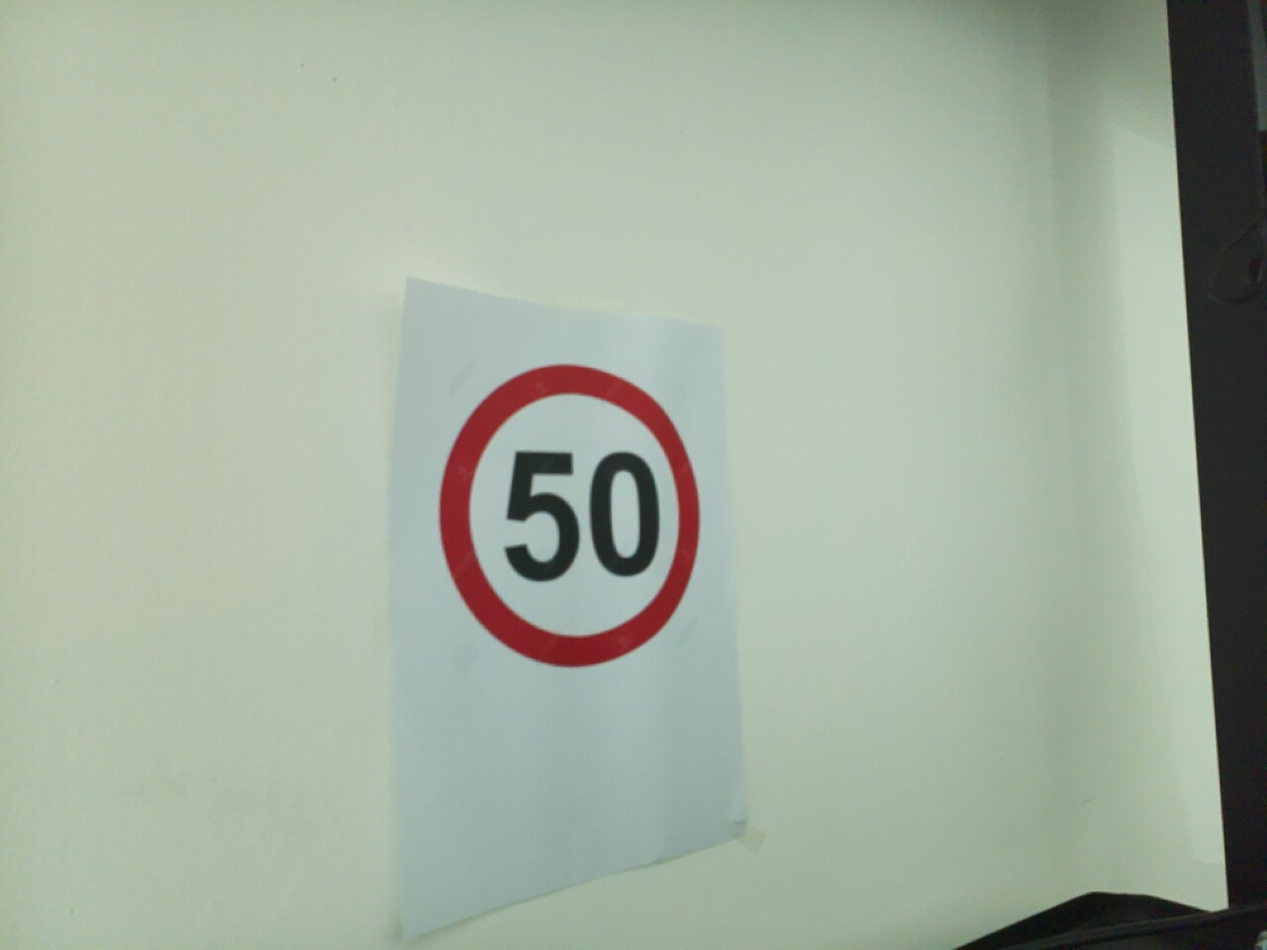speed_50: (431, 354, 709, 678)
